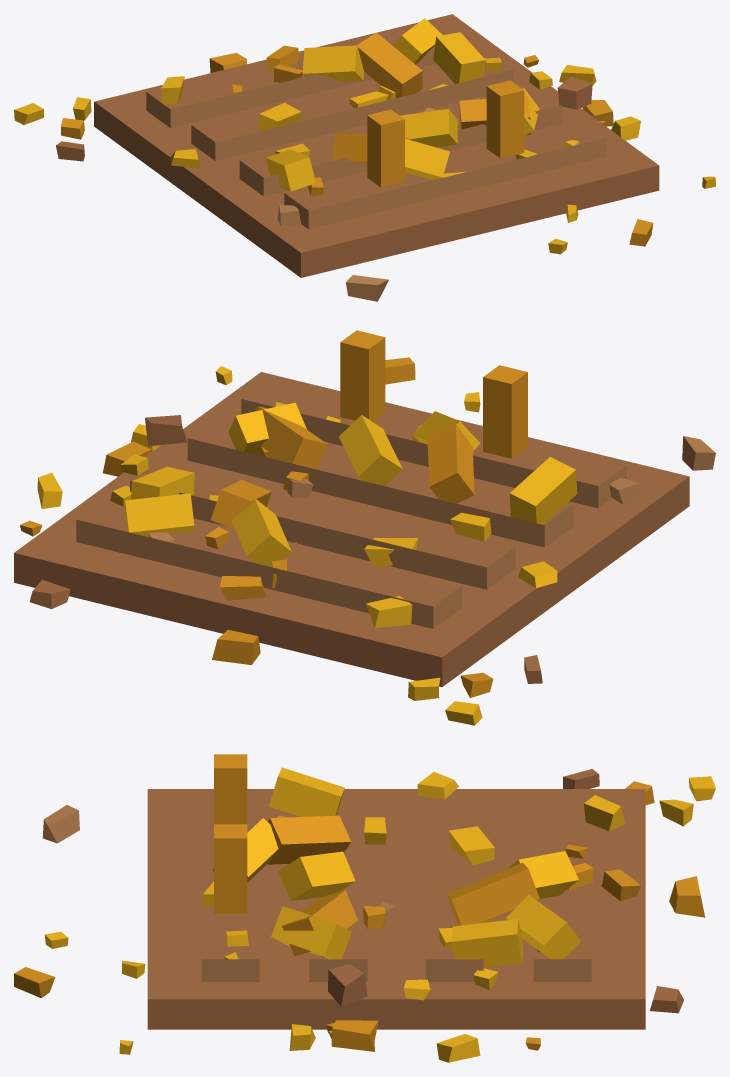
The model's file is field_t1_v1_dmg2.glb.
The picture shows the model from 3 angles, top to bottom: view 1: azimuth 30°, elevation 25°; view 2: azimuth 150°, elevation 25°; view 3: azimuth 270°, elevation 25°; orthographic projection. The views are drawn at different scales.
Parts seen in each view (by area): view 1: field_t1_v1_dmg2; view 2: field_t1_v1_dmg2; view 3: field_t1_v1_dmg2.
Boxes of the visible parts, <box> form: field_t1_v1_dmg2: <box>14,14,715,301</box>; field_t1_v1_dmg2: <box>14,330,715,725</box>; field_t1_v1_dmg2: <box>14,754,715,1062</box>.
Size of the model in its own units: 0.8054 by 0.17 by 0.8457.
1 material, 1 textured.
